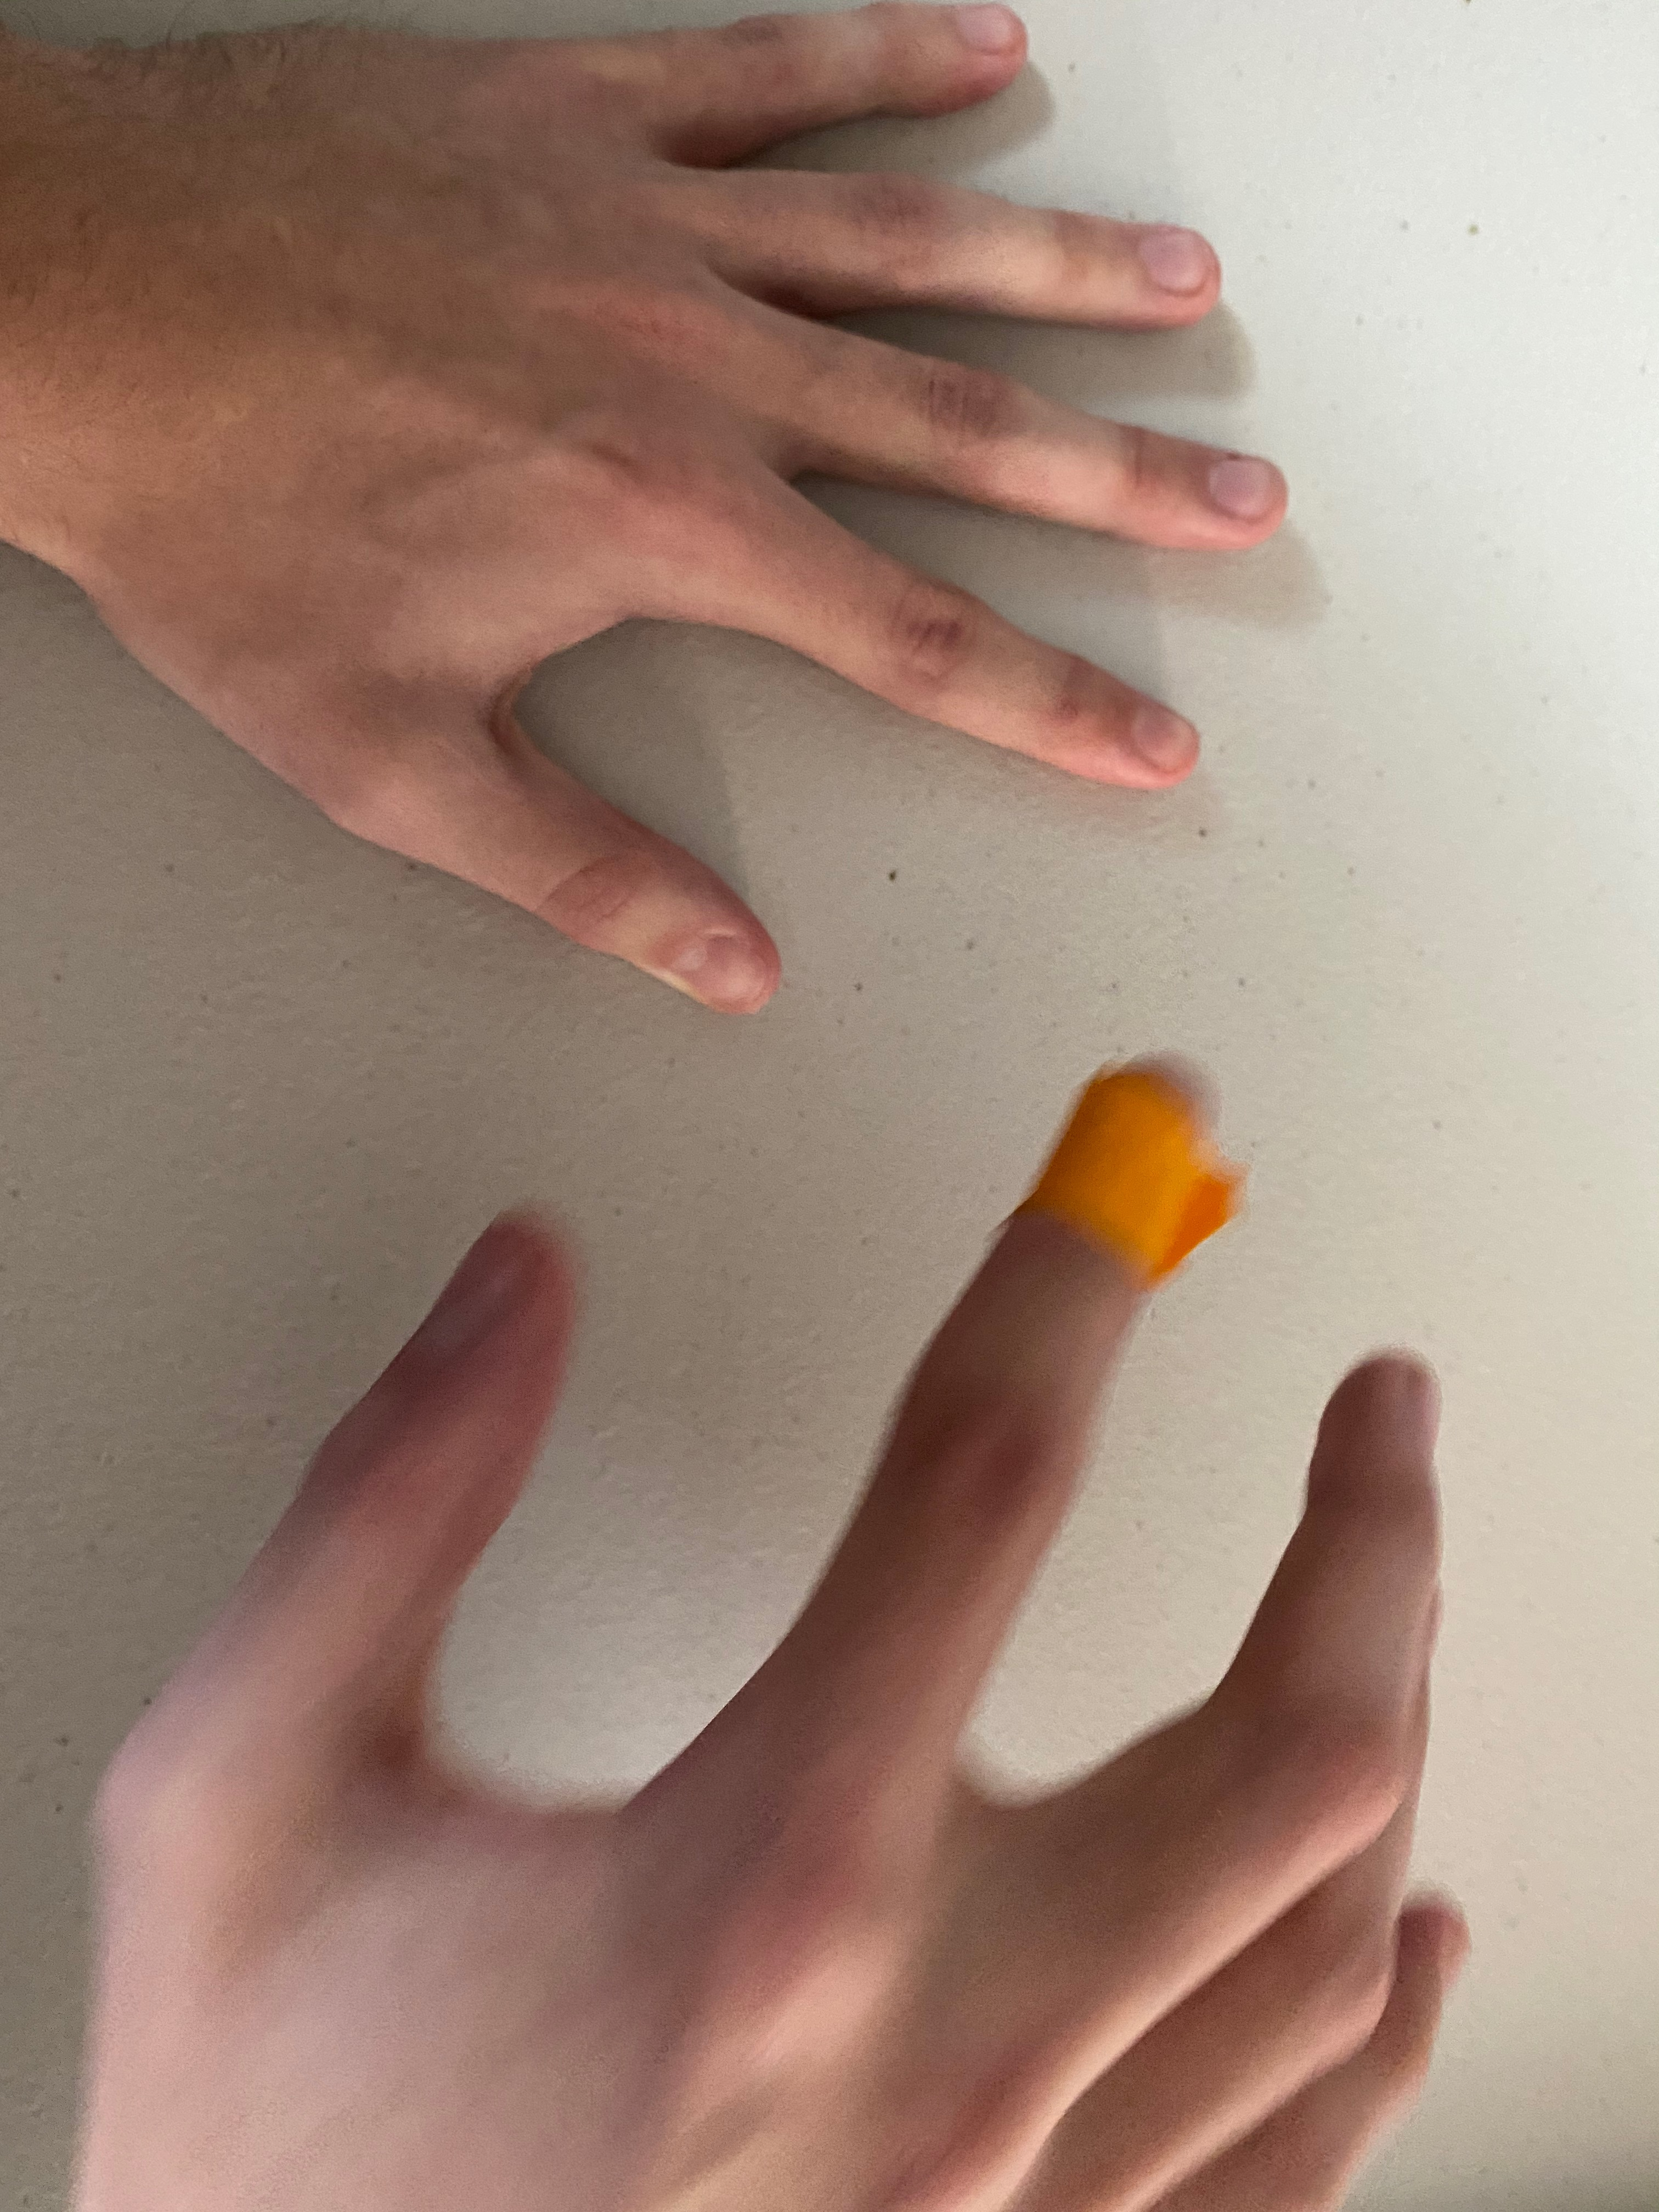fingertip: (1006, 988, 1284, 1298)
